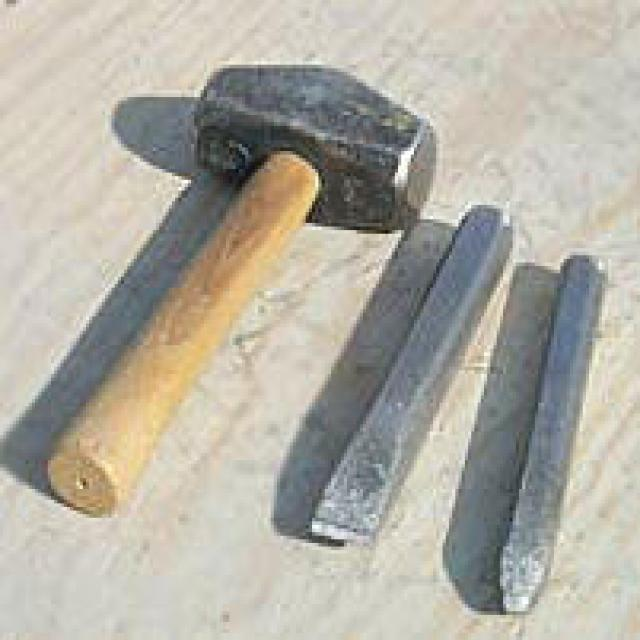hammer: (37, 48, 452, 530)
